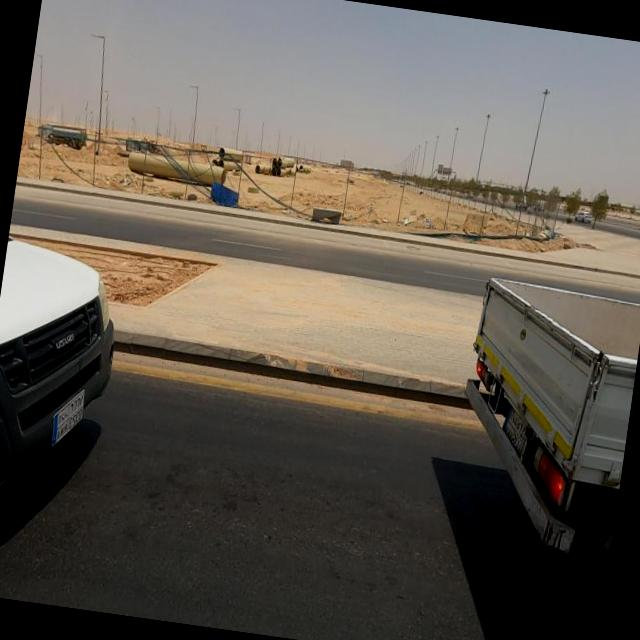debris: (504, 212, 585, 266), (198, 154, 256, 221), (386, 202, 426, 251), (414, 196, 449, 242)
